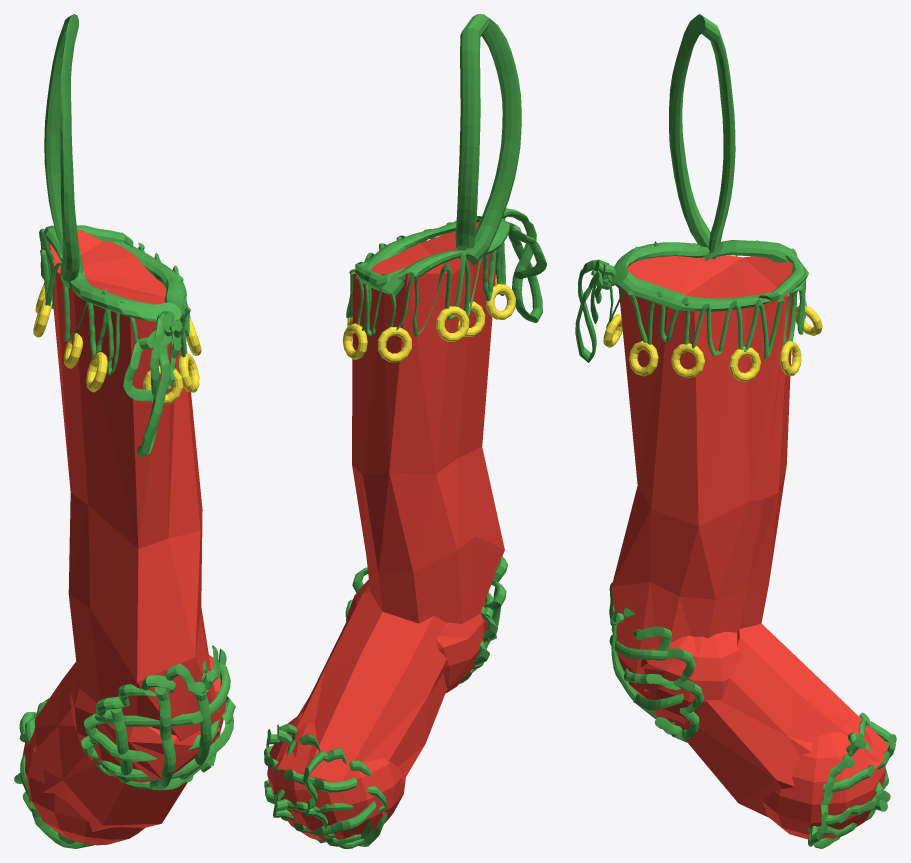
Rendered from stocking.obj.
3 views of the same model, side by side, from view 1: azimuth 30°, elevation 25°; view 2: azimuth 150°, elevation 25°; view 3: azimuth 270°, elevation 25° (orthographic). The views are drawn at different scales.
Parts seen in each view (by area): view 1: group2015226742, group331606995, group1041433900, group1385341013, group1311130884, group1770784653, group2116432314, group1002229839, group1693160475, group1574167905, group1790069408, group855510686 (+12 smaller); view 2: group2015226742, group331606995, group1041433900, group1770784653, group1002229839, group1311130884, group1385341013, group2116432314, group141768778, group1693160475, group1300118497, group2042225392 (+7 smaller); view 3: group2015226742, group331606995, group1770784653, group1041433900, group1311130884, group1385341013, group1673145164, group1155395059, group2116432314, group141768778, group1002229839, group1630478709 (+7 smaller).
Boxes of the visible parts, <box> form: group2015226742: <box>48,230,220,741</box>; group331606995: <box>29,662,219,832</box>; group1041433900: <box>44,14,83,288</box>; group1385341013: <box>69,655,226,782</box>; group1311130884: <box>43,225,186,321</box>; group1770784653: <box>23,728,144,845</box>; group2116432314: <box>123,311,174,456</box>; group1002229839: <box>39,228,138,375</box>; group1693160475: <box>81,663,214,775</box>; group1574167905: <box>94,664,230,726</box>; group1790069408: <box>149,687,175,789</box>; group855510686: <box>100,703,233,780</box>; group2015226742: <box>352,222,504,623</box>; group331606995: <box>275,591,466,816</box>; group1041433900: <box>455,14,521,264</box>; group1770784653: <box>267,712,405,840</box>; group1002229839: <box>355,219,505,336</box>; group1311130884: <box>360,216,510,296</box>; group1385341013: <box>347,579,488,692</box>; group2116432314: <box>502,207,546,322</box>; group141768778: <box>266,723,386,820</box>; group1693160475: <box>459,557,507,683</box>; group1300118497: <box>264,745,356,792</box>; group2042225392: <box>281,801,376,835</box>; group2015226742: <box>611,251,795,673</box>; group331606995: <box>644,623,888,817</box>; group1770784653: <box>763,720,885,839</box>; group1041433900: <box>669,14,735,259</box>; group1311130884: <box>611,240,808,311</box>; group1385341013: <box>617,631,740,723</box>; group1673145164: <box>628,290,784,359</box>; group1155395059: <box>611,607,704,739</box>; group2116432314: <box>575,259,616,362</box>; group141768778: <box>808,712,887,846</box>; group1002229839: <box>633,240,806,346</box>; group1630478709: <box>758,255,806,301</box>.
Bounding box in the file's own units: 0.3898 × 1.68 × 0.6255.
